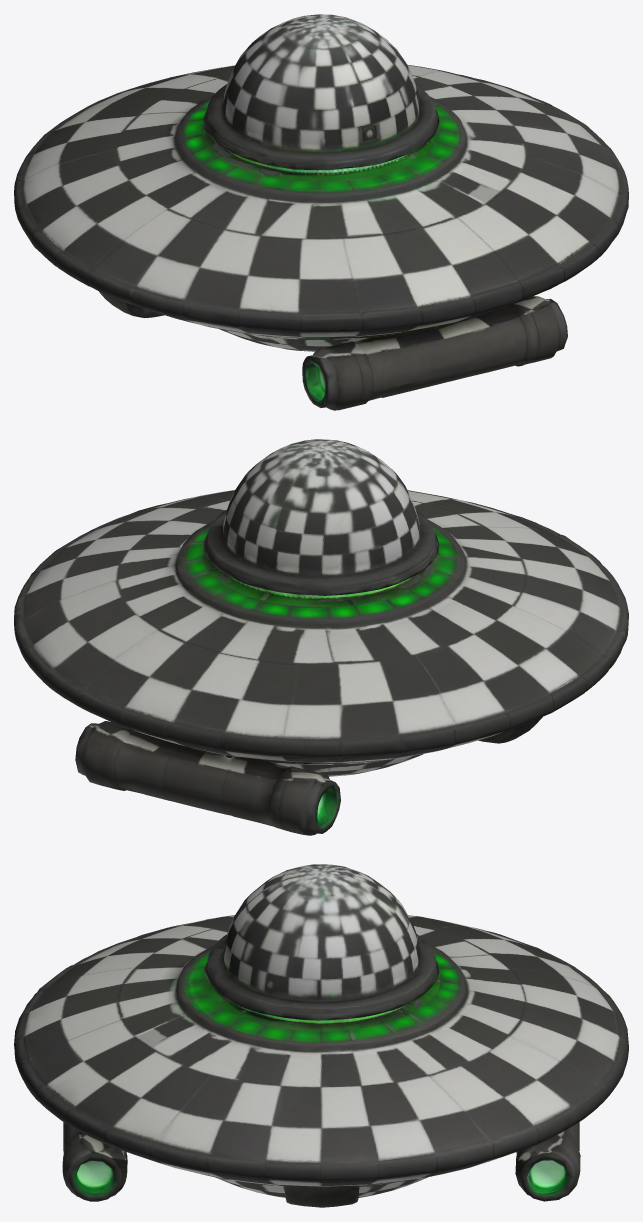
The model's file is spaceship.glb.
3 views of the same model, one above another, from view 1: azimuth 30°, elevation 25°; view 2: azimuth 150°, elevation 25°; view 3: azimuth 270°, elevation 25° (orthographic).
Parts seen in each view (by area): view 1: Mesh1; view 2: Mesh1; view 3: Mesh1.
Part boxes in pixels (x1,y1,x2,y2): Mesh1: [14, 14, 628, 410]; Mesh1: [14, 439, 628, 835]; Mesh1: [14, 864, 628, 1207].
Bounding box in the file's own units: 2 × 1.05 × 2.
1 material, 1 textured.
